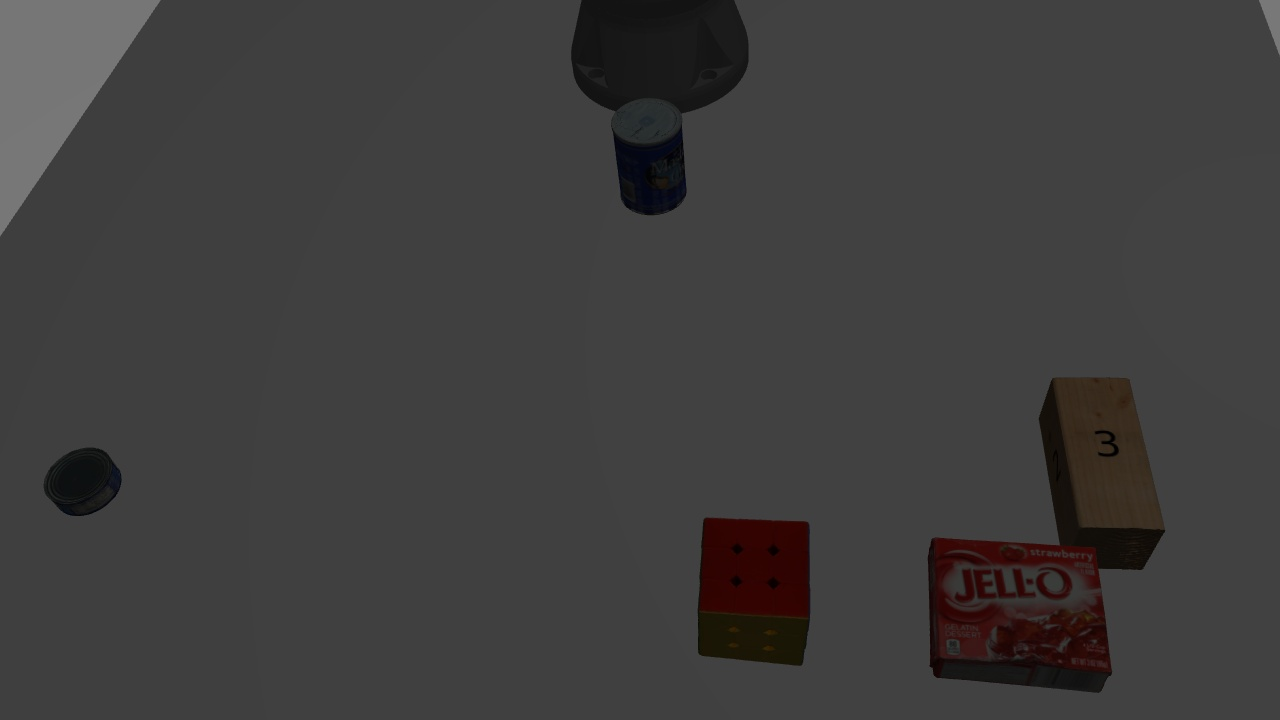gelatin_box: (928, 537, 1101, 620)
master_chef_can: (606, 94, 692, 221)
rubiks_cube: (692, 510, 817, 677)
tuna_fish_can: (38, 445, 124, 517)
wood_block: (1033, 372, 1176, 578)
